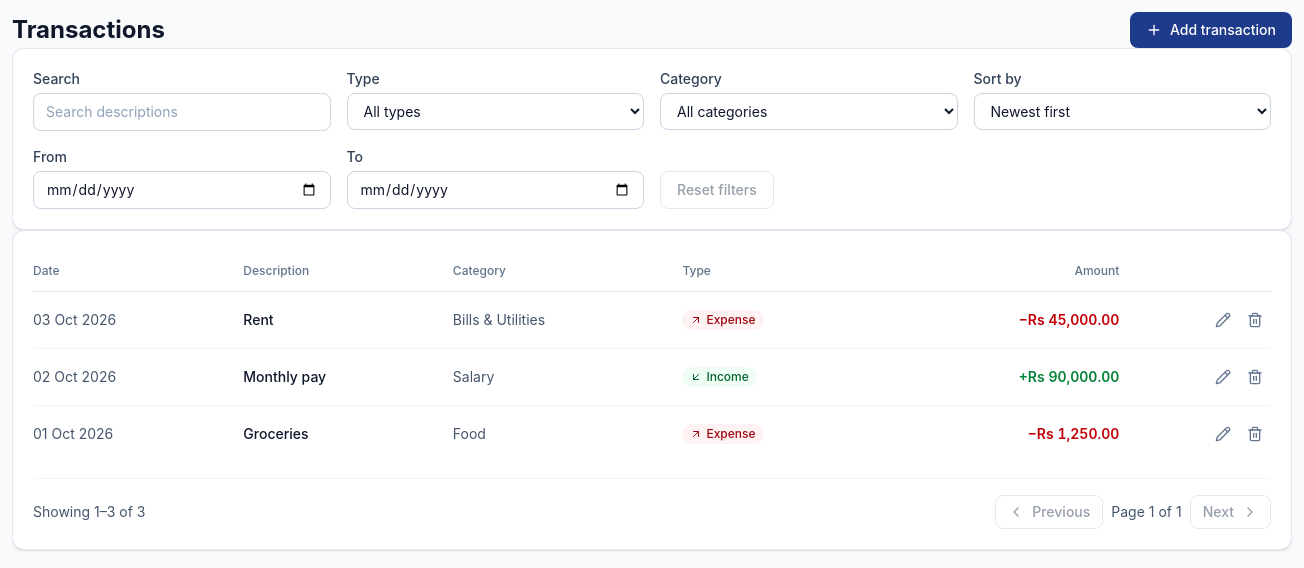
Test case: search, filters and pagination › filters by search text and by type
The width and height of the screenshot is (1304, 568).
In the search field labelled "Search": (182, 112) [33,93,330,131], type "rent"
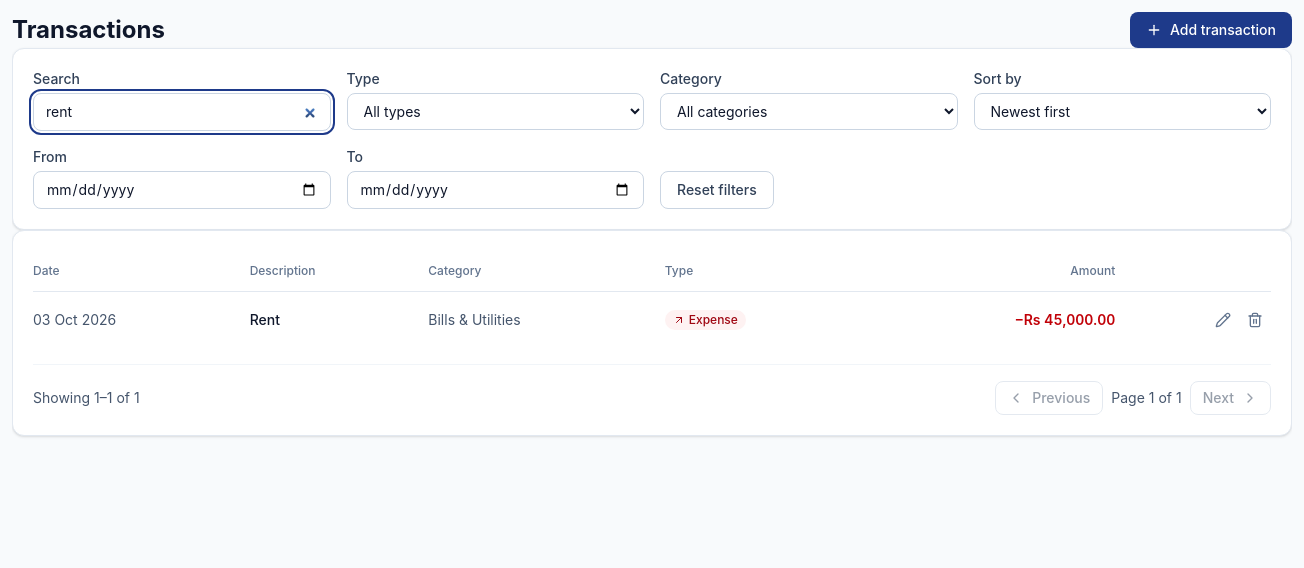
Check: the text "Rent" is shown, box [250,292,428,348]
Check: the text "Groceries" is gone
Clear the search field labelled "Search": (182, 112) [33,93,330,131]
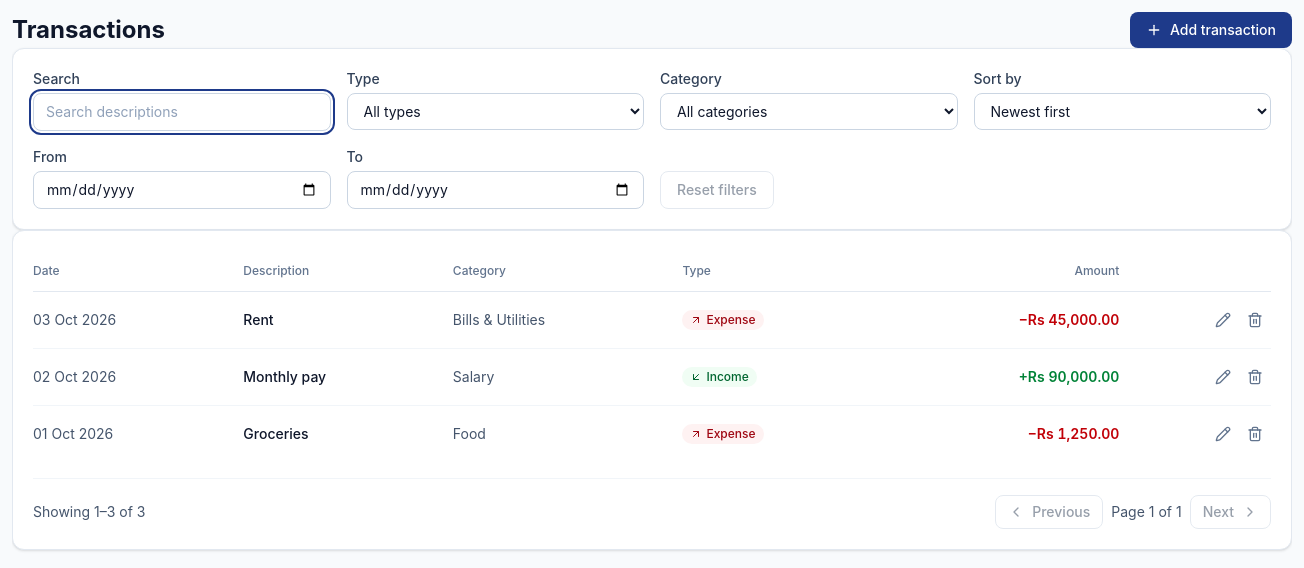
Select "Income" in the dropdown labelled "Type": (495, 112) [346,93,644,130]
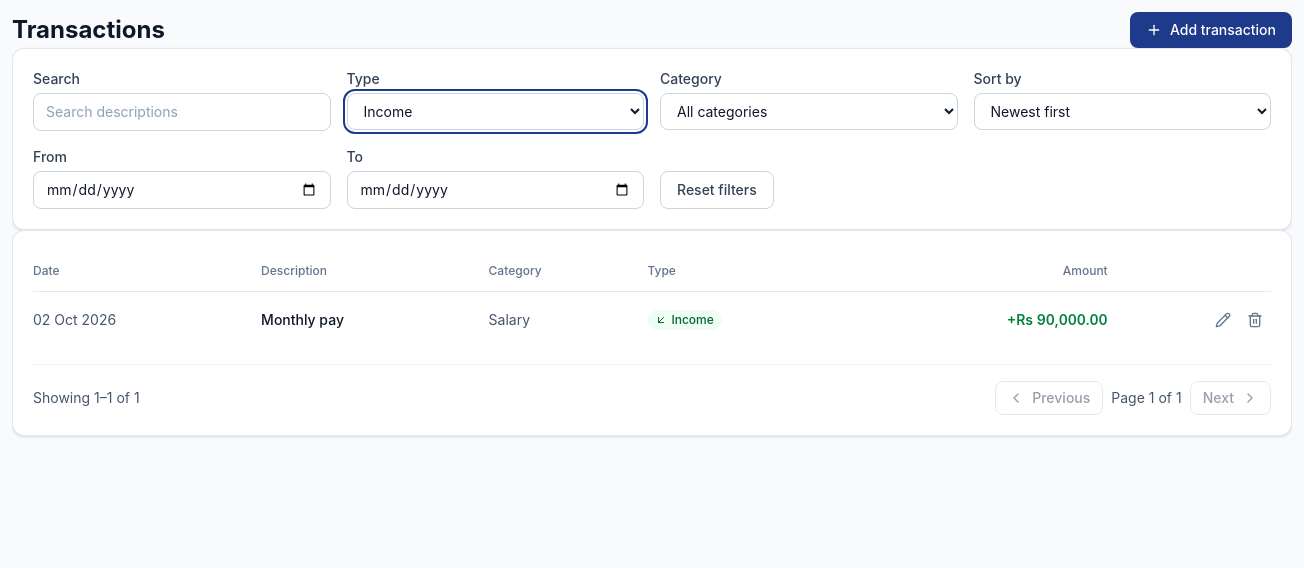
Check: the text "Monthly pay" is shown, box [261,292,489,348]
Check: the text "Rent" is gone
